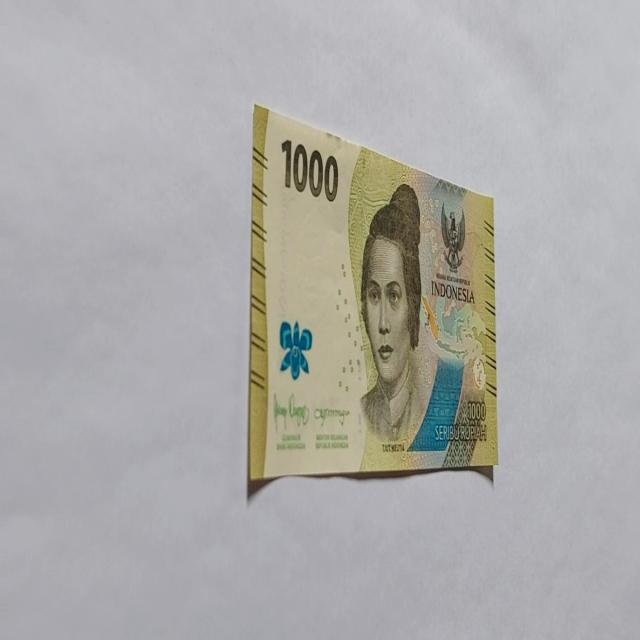seribu rupiah kertas: (247, 102, 497, 494)
